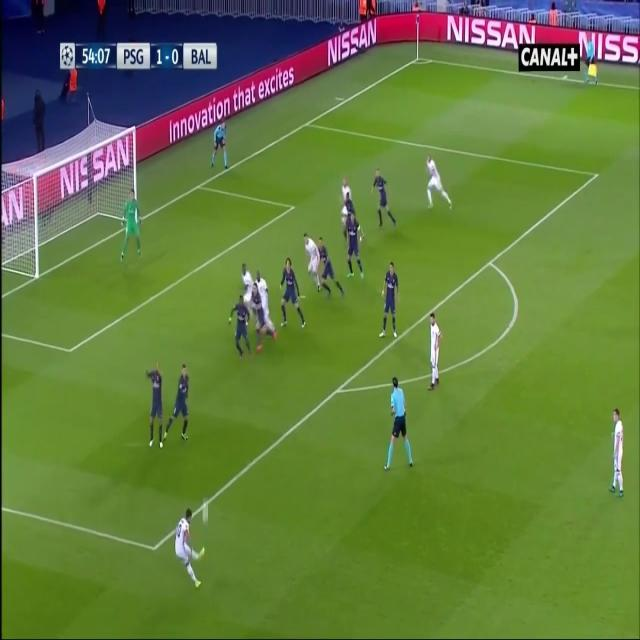Ball: (200, 500, 210, 525)
Goalkeeper: (117, 184, 144, 264)
Player: (172, 509, 205, 592), (164, 362, 194, 444), (278, 256, 308, 332), (422, 152, 457, 212), (250, 285, 279, 355), (144, 361, 164, 453), (379, 261, 402, 341), (317, 238, 347, 299), (371, 168, 400, 230), (610, 407, 628, 503), (228, 296, 254, 362), (343, 212, 367, 280), (426, 313, 445, 396), (303, 229, 324, 293), (254, 265, 272, 323), (237, 258, 253, 304)
Referee: (383, 376, 415, 472), (210, 118, 230, 171), (584, 35, 601, 88)
